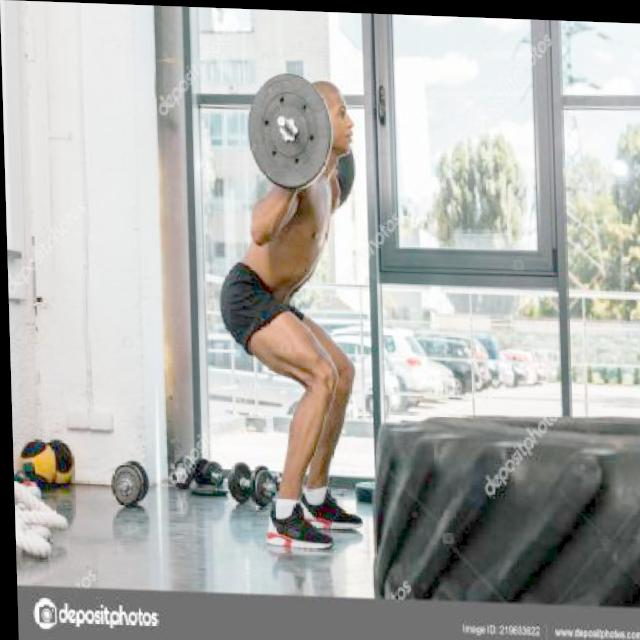barbell: (244, 65, 336, 192)
